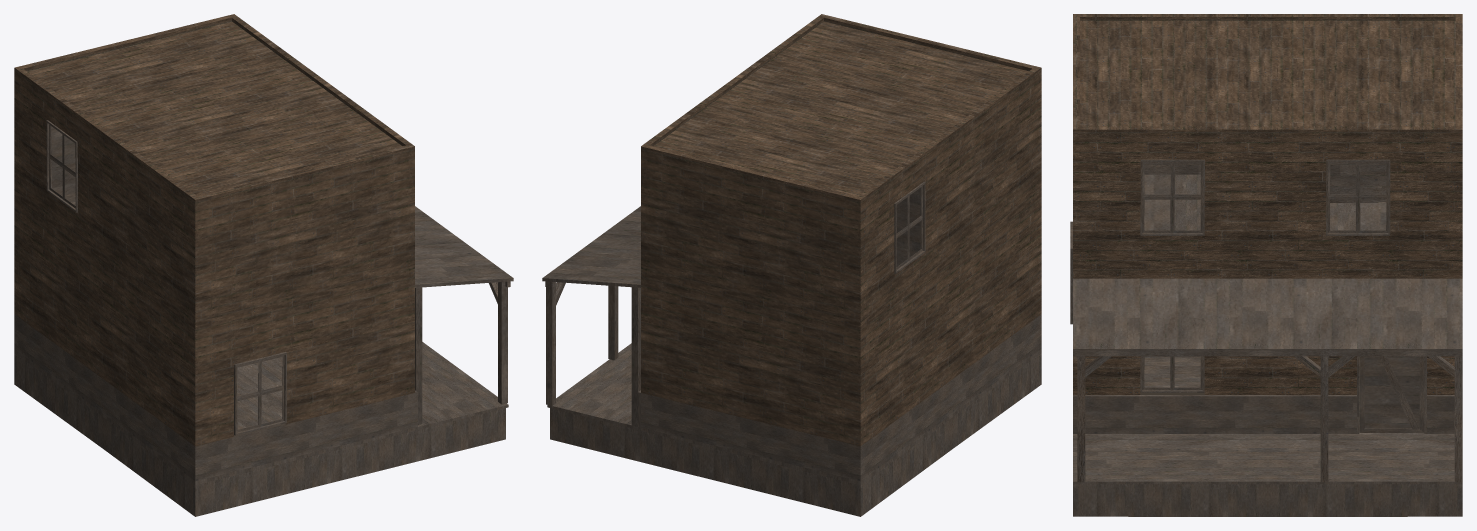
Rendered from oldwest_03.obj.
3 views of the same model, side by side, from view 1: azimuth 30°, elevation 25°; view 2: azimuth 150°, elevation 25°; view 3: azimuth 270°, elevation 25° (orthographic). The views are drawn at different scales.
Parts seen in each view (by area): view 1: Cube.146, Cube.137, Cube.143, Cube.144, Cube.139, Cube.202, Cube.142; view 2: Cube.146, Cube.137, Cube.143, Cube.144, Cube.202, Cube.142; view 3: Cube.146, Cube.137, Cube.143, Cube.202, Cube.147, Cube.144, Cube.140, Cube.141, Cube.145, Cube.138.
Boxes of the visible parts, bbox=[...] form: Cube.146: bbox=[14, 14, 417, 481]; Cube.137: bbox=[14, 342, 508, 516]; Cube.143: bbox=[415, 206, 513, 287]; Cube.144: bbox=[415, 281, 507, 424]; Cube.139: bbox=[234, 352, 286, 435]; Cube.202: bbox=[51, 126, 75, 205]; Cube.142: bbox=[46, 120, 77, 212]; Cube.146: bbox=[638, 14, 1041, 481]; Cube.137: bbox=[547, 343, 1041, 516]; Cube.143: bbox=[542, 206, 640, 287]; Cube.144: bbox=[546, 280, 640, 426]; Cube.202: bbox=[896, 188, 920, 266]; Cube.142: bbox=[894, 181, 925, 273]; Cube.146: bbox=[1073, 14, 1462, 433]; Cube.137: bbox=[1073, 356, 1462, 516]; Cube.143: bbox=[1073, 278, 1462, 356]; Cube.202: bbox=[1144, 163, 1386, 230]; Cube.147: bbox=[1359, 356, 1424, 432]; Cube.144: bbox=[1077, 356, 1462, 482]; Cube.140: bbox=[1140, 159, 1204, 235]; Cube.141: bbox=[1326, 159, 1390, 235]; Cube.145: bbox=[1085, 356, 1454, 377]; Cube.138: bbox=[1140, 356, 1204, 392].
Bounding box in the file's own units: 4.87 × 4.62 × 4.81.
Materials: 2 (2 with a texture image).
